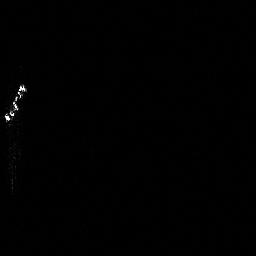ship: (2, 78, 31, 128)
